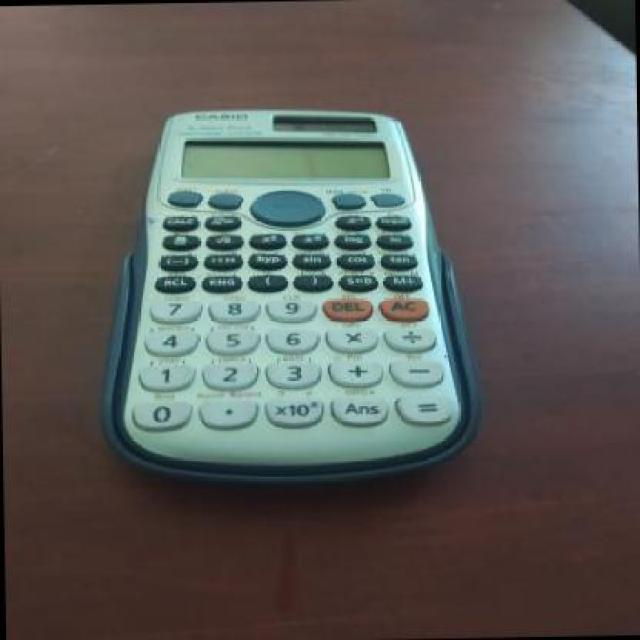Calculator: (90, 90, 488, 488)
